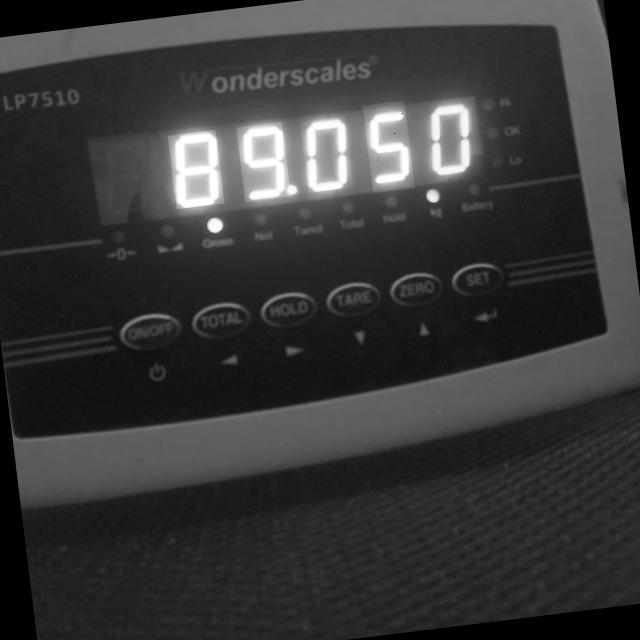.: (286, 183, 298, 195)
0: (300, 116, 353, 192), (425, 102, 476, 176)
5: (363, 100, 415, 193)
8: (167, 130, 224, 208)
9: (236, 121, 290, 201)
